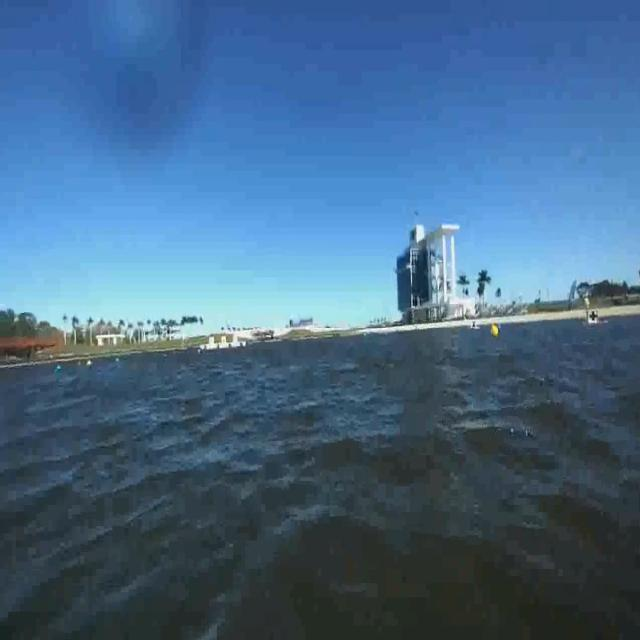yellow-buoy: (491, 323, 500, 338)
